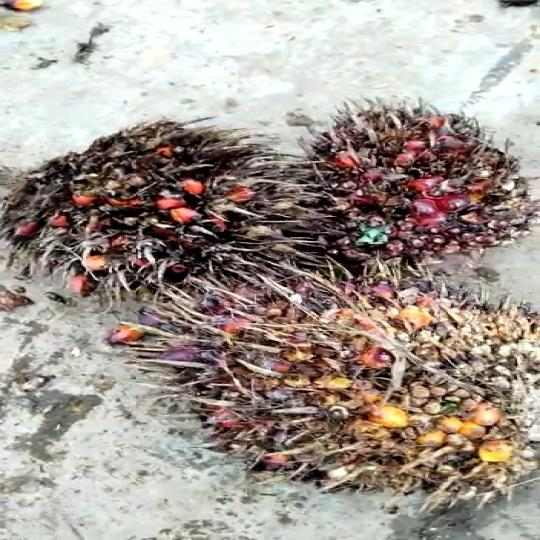terlalu masak: (119, 275, 540, 496), (0, 115, 299, 296), (263, 100, 535, 270)
